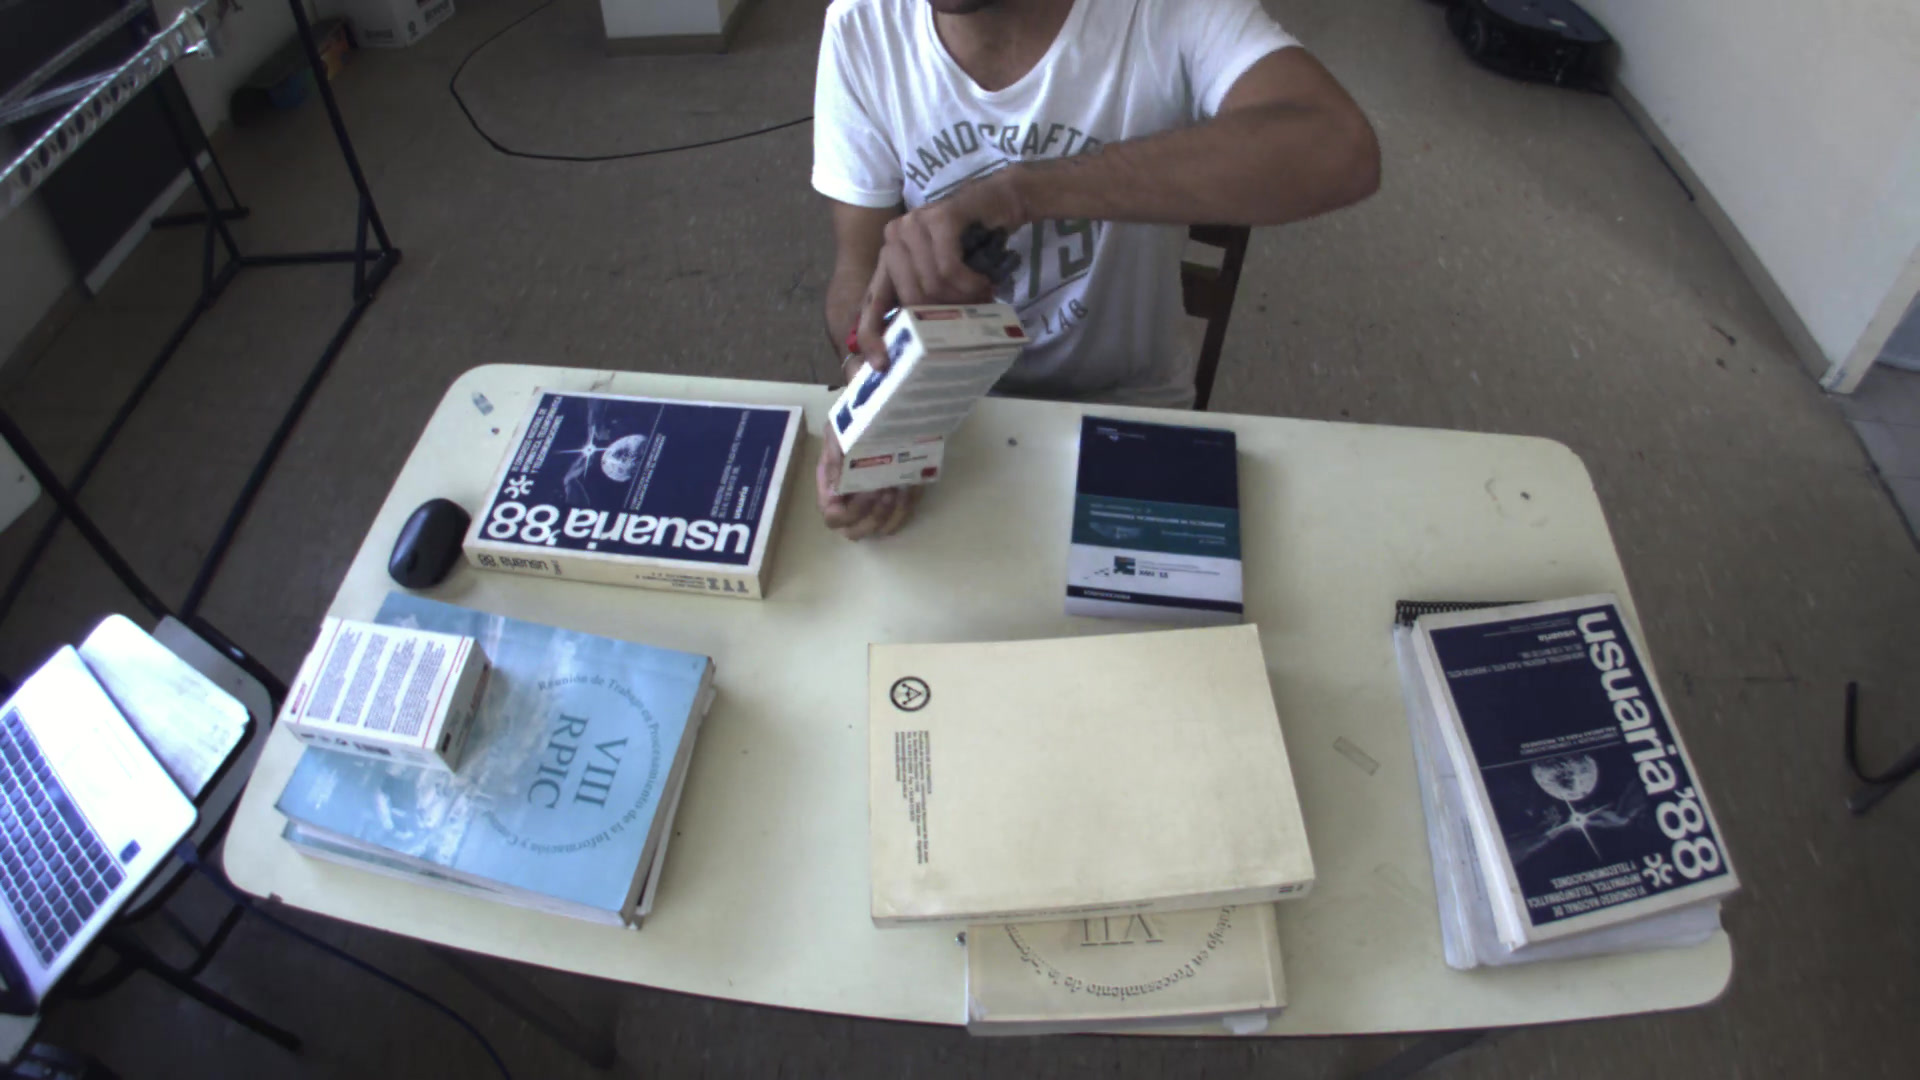hand: (856, 182, 1022, 326), (808, 434, 932, 549)
